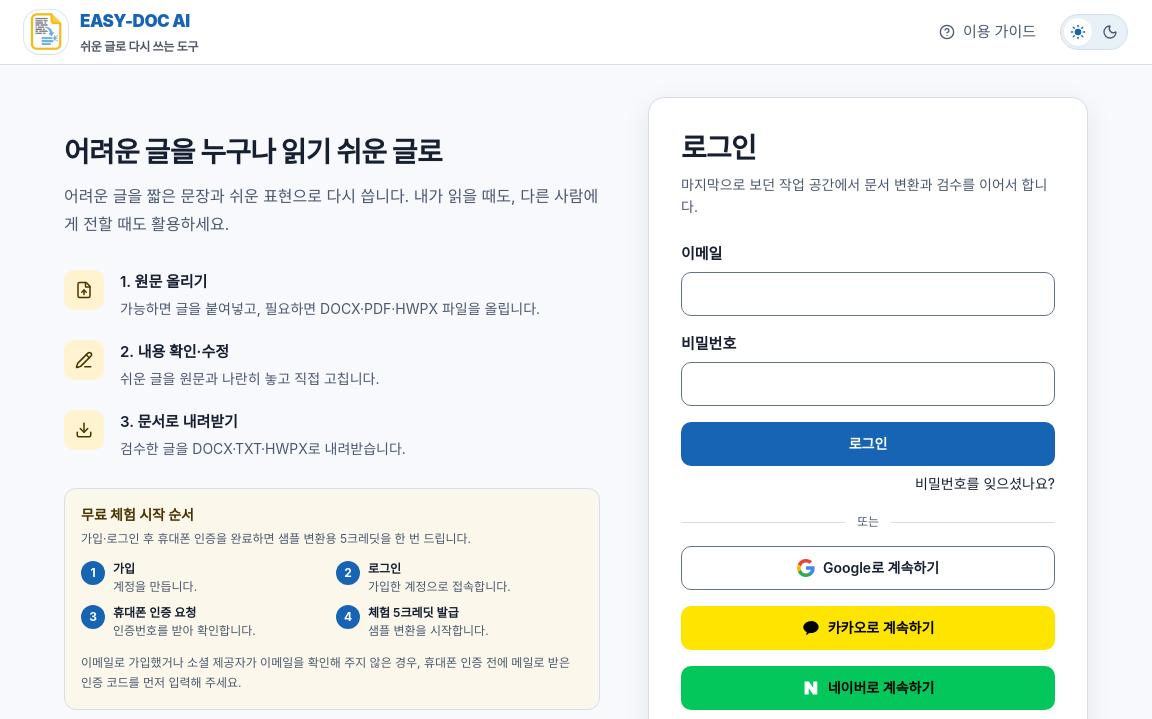
Test: 로그인 화면 › 입력이 비어 있으면 서버를 부르지 않고 오류를 알린다
Click the button "로그인".
click(868, 444)  # box [681, 422, 1055, 466]
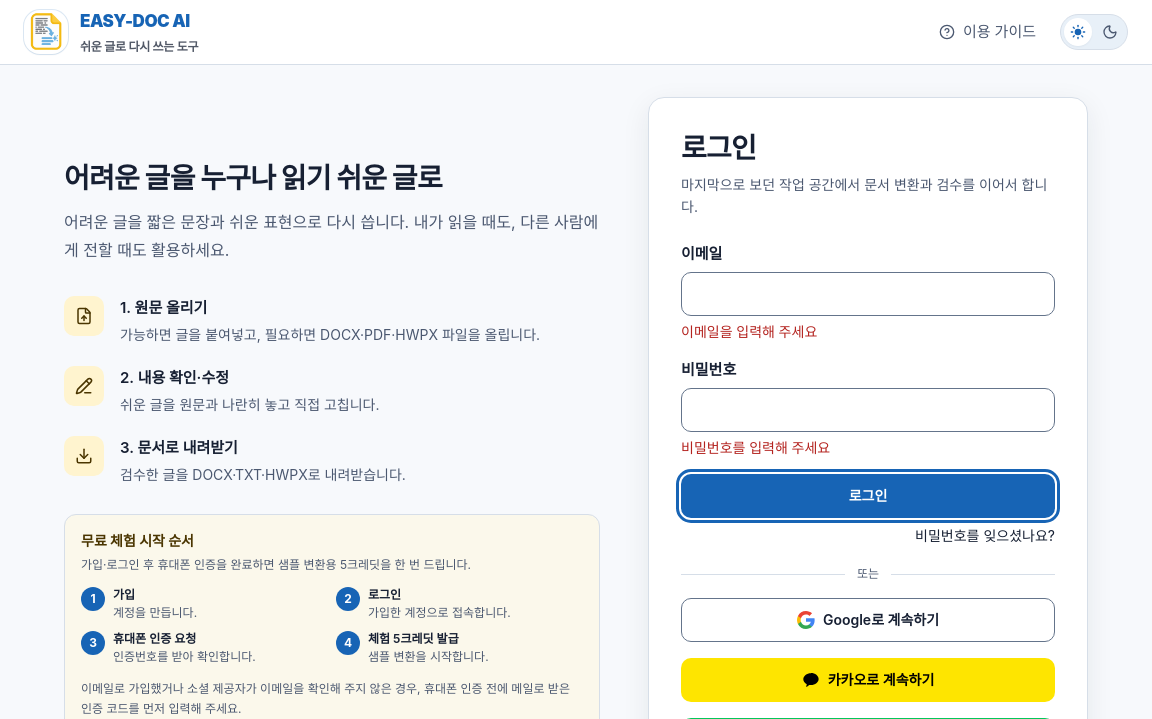
Result: the text "이메일을 입력해 주세요" is shown at [681, 323, 817, 340]
Result: the text "비밀번호를 입력해 주세요" is shown at [681, 439, 830, 456]
